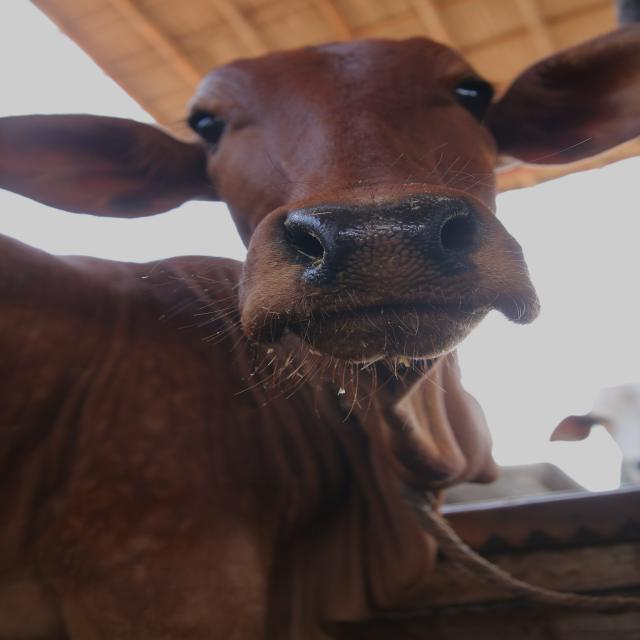muzzles: (260, 194, 511, 316)
